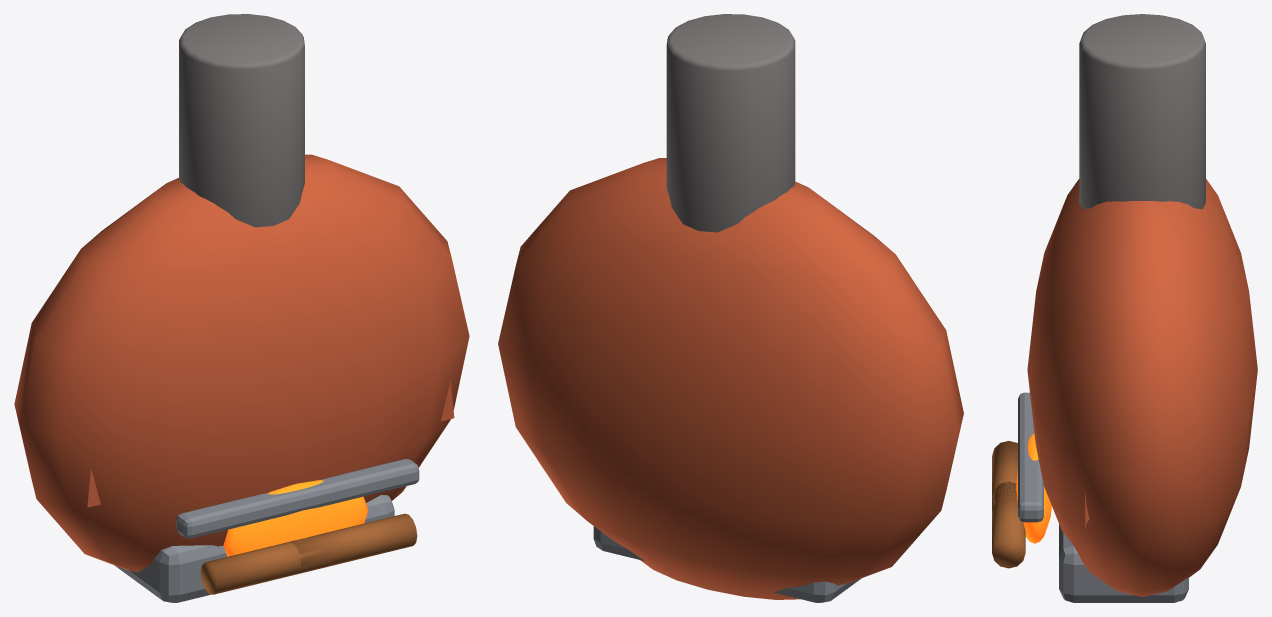
File: PR3D_Environment_Oven.fbx
3 views of the same model, side by side, from view 1: azimuth 30°, elevation 25°; view 2: azimuth 150°, elevation 25°; view 3: azimuth 270°, elevation 25° (orthographic). The views are drawn at different scales.
Parts seen in each view (by area): view 1: Visual_OvenDome, Visual_OvenChimney, Visual_OvenDomeTrim, Visual_OvenFire, Visual_OvenPlinth, Visual_FireLog_L, Visual_FireLog_R; view 2: Visual_OvenDome, Visual_OvenChimney, Visual_OvenPlinth; view 3: Visual_OvenDome, Visual_OvenChimney, Visual_OvenPlinth, Visual_OvenDomeTrim, Visual_FireLog_R, Visual_FireLog_L, Visual_OvenFire.
Part boxes in pixels (x1,y1,x2,y2): Visual_OvenDome: [14, 154, 469, 572]; Visual_OvenChimney: [179, 14, 304, 227]; Visual_OvenDomeTrim: [176, 459, 419, 538]; Visual_OvenFire: [223, 480, 368, 556]; Visual_OvenPlinth: [114, 495, 394, 602]; Visual_FireLog_L: [200, 534, 333, 594]; Visual_FireLog_R: [289, 513, 417, 574]; Visual_OvenDome: [498, 158, 963, 599]; Visual_OvenChimney: [666, 14, 795, 232]; Visual_OvenPlinth: [593, 526, 861, 602]; Visual_OvenDome: [1027, 179, 1257, 597]; Visual_OvenChimney: [1079, 14, 1205, 209]; Visual_OvenPlinth: [1059, 524, 1188, 602]; Visual_OvenDomeTrim: [1018, 392, 1043, 522]; Visual_FireLog_R: [992, 481, 1025, 568]; Visual_FireLog_L: [992, 441, 1017, 511]; Visual_OvenFire: [1016, 434, 1051, 543].
Size of the model in its own units: 2.76 by 3.19 by 1.43.
